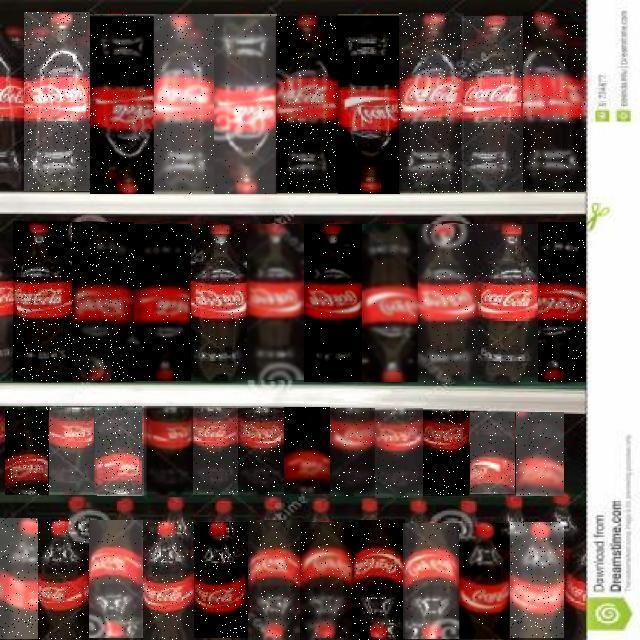Drinks: (24, 12, 90, 191), (90, 14, 155, 194), (399, 13, 464, 193), (214, 14, 277, 194), (338, 14, 400, 194), (524, 13, 586, 193), (277, 16, 339, 193), (462, 16, 524, 192), (154, 14, 214, 194), (13, 221, 76, 382), (72, 223, 134, 383), (478, 224, 540, 384), (419, 224, 479, 384), (304, 224, 362, 382), (362, 224, 420, 382), (190, 224, 247, 382), (134, 224, 191, 381), (247, 225, 304, 381), (539, 223, 587, 383), (403, 523, 459, 639), (37, 519, 91, 639), (142, 520, 196, 640), (194, 522, 249, 638), (89, 520, 143, 638), (352, 520, 405, 640), (457, 523, 511, 639), (300, 522, 354, 638), (510, 522, 564, 638), (248, 520, 300, 640), (0, 518, 38, 639), (145, 406, 193, 497), (98, 406, 146, 496), (375, 408, 423, 498), (237, 407, 285, 496), (6, 407, 52, 495), (52, 407, 98, 495), (284, 408, 330, 496), (330, 409, 376, 497), (516, 412, 564, 496), (193, 407, 238, 495), (423, 410, 469, 496), (470, 412, 515, 494)
